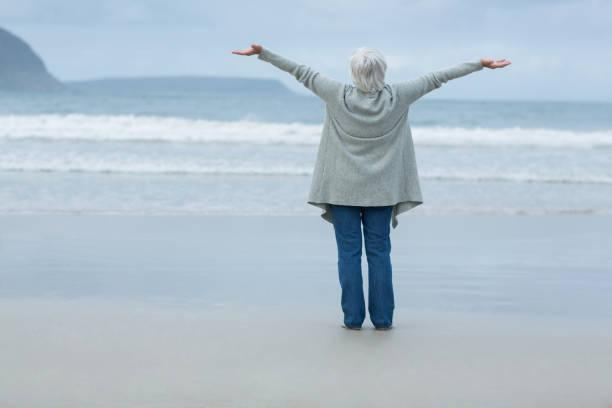Human: (229, 39, 507, 357)
